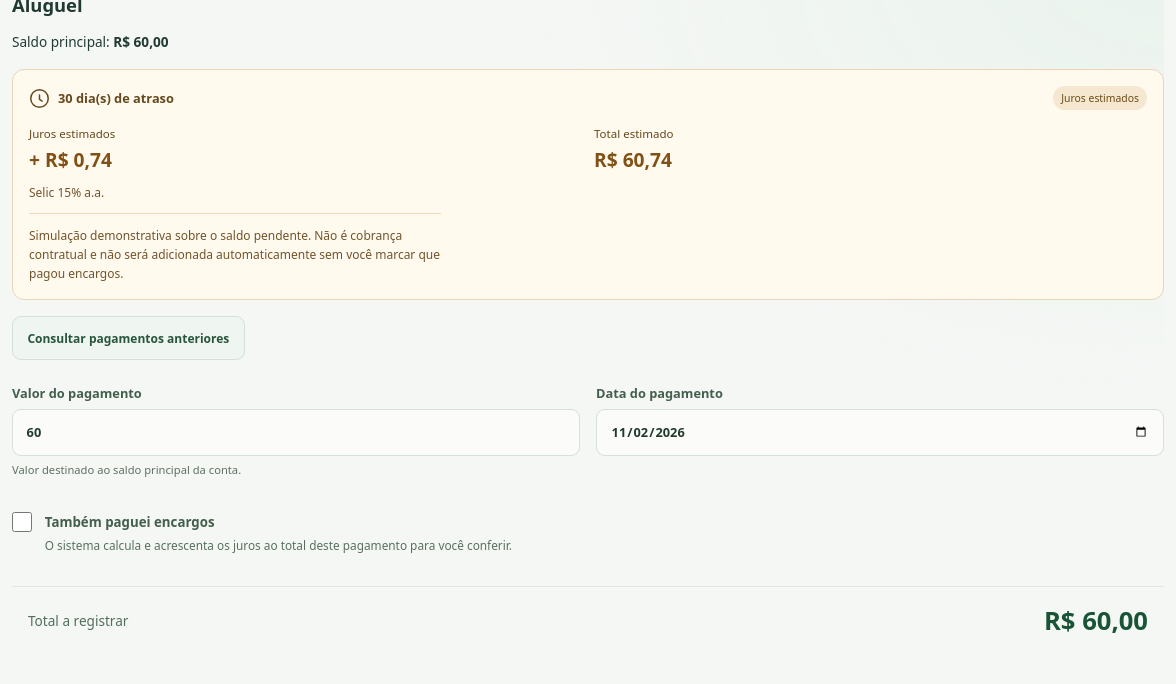
Test: encargos sempre passam por revisão mesmo se revisão geral estiver desativada
Click the checkbox labelled "Também paguei encargos". click: (22, 522)
box: x1=12 y1=512 x2=32 y2=532
Wait 300 ms
(page scrolled)
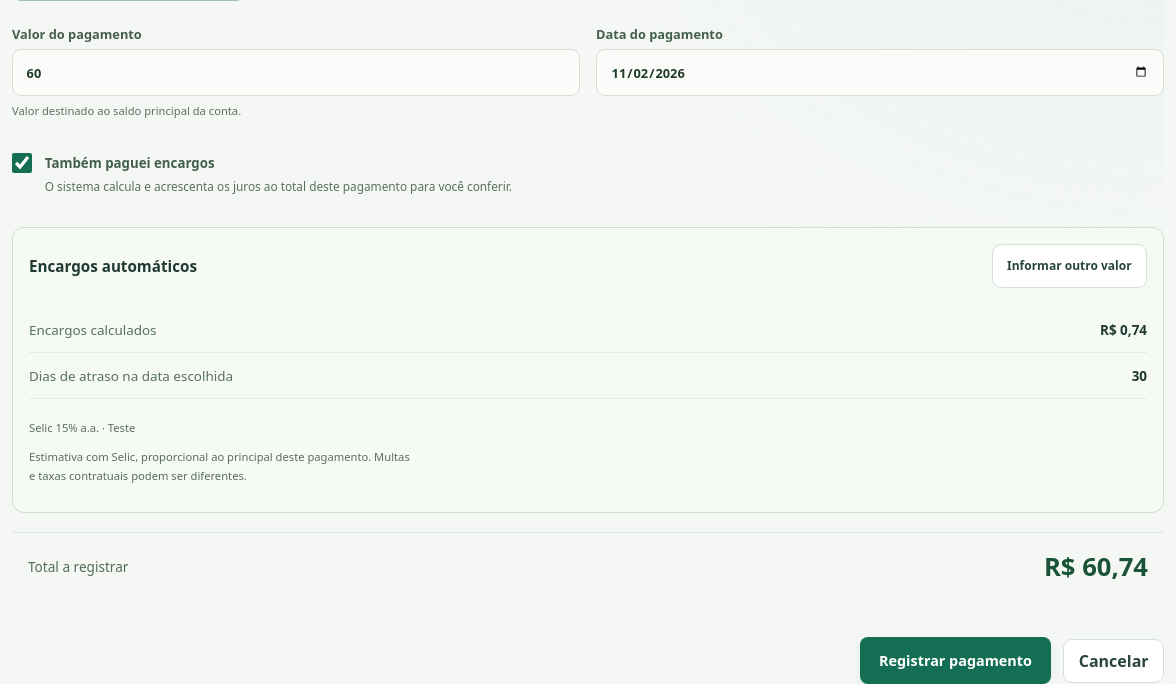
Submit the form
(page scrolled)
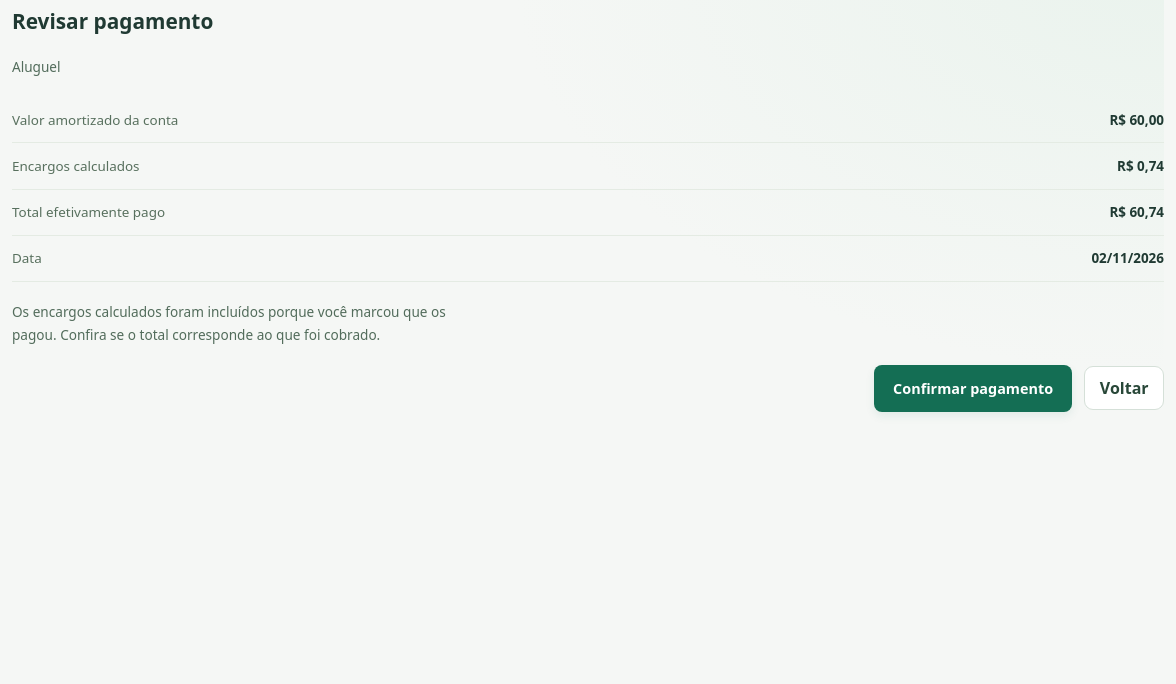
Expected: the text "Revisar pagamento" is shown, x1=12 y1=7 x2=213 y2=35
